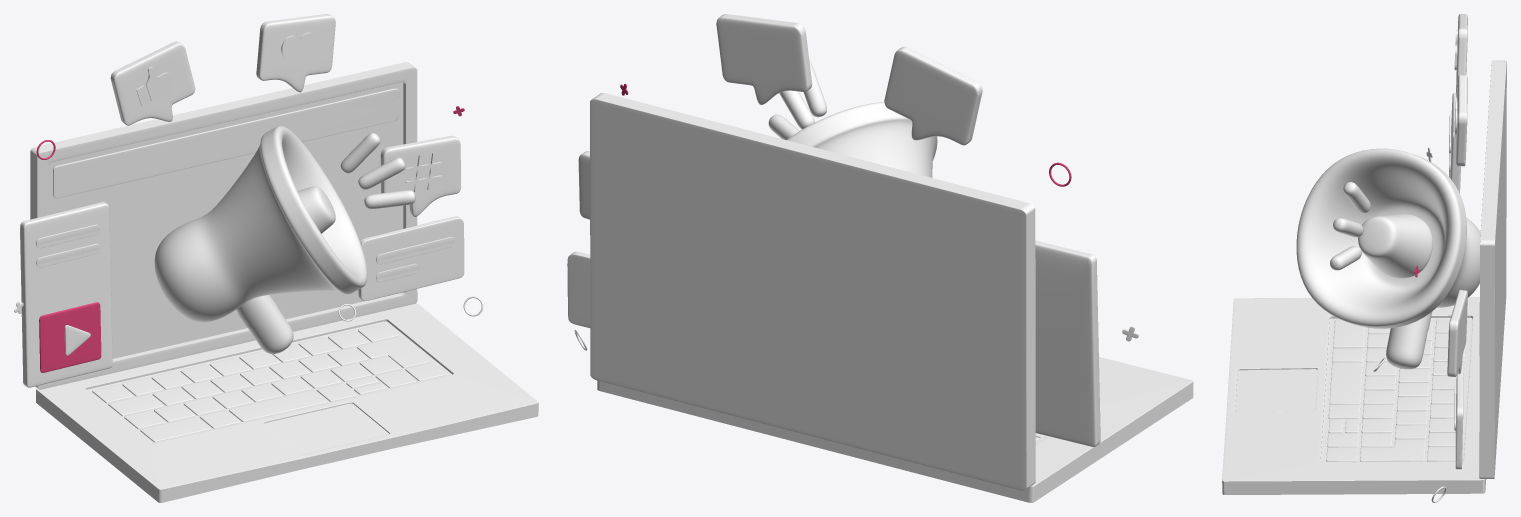
The model's file is marketing-campaign-3d-animated-icon-75312198006.glb.
3 views of the same model, side by side, from view 1: azimuth 30°, elevation 25°; view 2: azimuth 150°, elevation 25°; view 3: azimuth 270°, elevation 25° (orthographic). The views are drawn at different scales.
Visible parts, largest first — view 1: Laptop, Megaphone, Laptop.003, Laptop.005, Laptop.002, Laptop.001, Media Frame, Frame, Like Bubble Chat, Hastag Bubble Chat, Love Bubble Chat, Laptop.004 (+9 smaller); view 2: Laptop.002, Laptop, Media Frame, Love Bubble Chat, Like Bubble Chat, Megaphone, Frame, Megaphone.002, Hastag Bubble Chat; view 3: Megaphone, Laptop, Laptop.005, Laptop.002, Laptop.004, Hastag Bubble Chat, Love Bubble Chat, Frame, Like Bubble Chat, Media Frame, Megaphone.003, Megaphone.001 (+1 smaller).
Part boxes in pixels (x1,y1,x2,y2): Laptop: (36, 303, 538, 502); Megaphone: (154, 126, 367, 354); Laptop.003: (48, 82, 403, 358); Laptop.005: (92, 323, 445, 442); Laptop.002: (30, 62, 417, 389); Laptop.001: (53, 88, 399, 198); Media Frame: (20, 202, 112, 387); Frame: (358, 216, 464, 300); Like Bubble Chat: (110, 41, 195, 125); Hastag Bubble Chat: (380, 135, 461, 216); Love Bubble Chat: (256, 14, 335, 92); Laptop.004: (264, 403, 389, 454); Laptop.002: (590, 93, 1035, 490); Laptop: (597, 357, 1193, 502); Media Frame: (1035, 240, 1100, 446); Love Bubble Chat: (716, 14, 812, 104); Like Bubble Chat: (884, 46, 982, 145); Megaphone: (787, 102, 937, 177); Frame: (567, 251, 590, 327); Megaphone.002: (779, 90, 814, 129); Hastag Bubble Chat: (578, 151, 589, 219); Megaphone: (1296, 148, 1480, 369); Laptop: (1222, 297, 1486, 494); Laptop.005: (1326, 319, 1467, 461); Laptop.002: (1479, 60, 1506, 478); Laptop.004: (1235, 369, 1317, 412); Hastag Bubble Chat: (1447, 290, 1467, 376); Love Bubble Chat: (1455, 75, 1467, 166); Frame: (1455, 363, 1463, 469); Like Bubble Chat: (1456, 14, 1467, 98); Media Frame: (1449, 93, 1460, 193); Megaphone.003: (1343, 182, 1370, 213); Megaphone.001: (1330, 246, 1361, 270).
Size of the model in its own units: 6.74 by 4.72 by 3.51.
